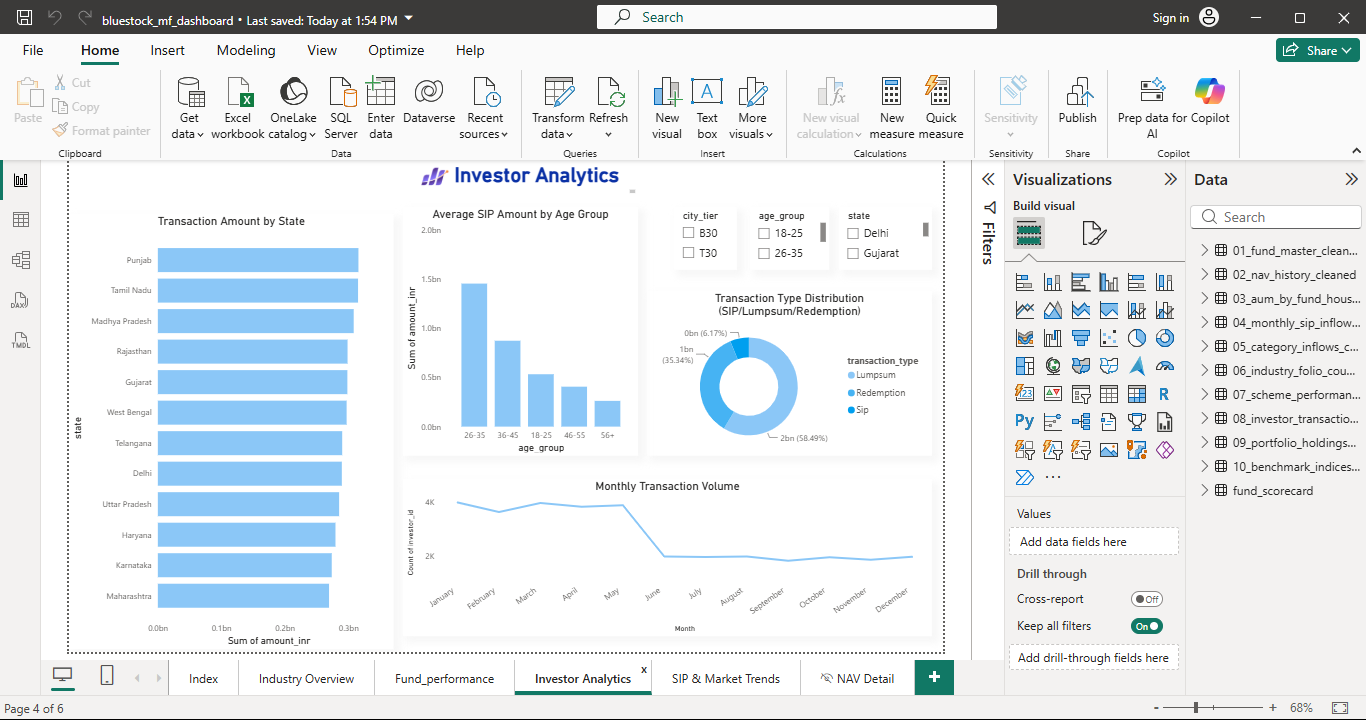

What the dashboard file says about the page in this screenshot:
{"tool":"powerbi","page":{"name":"Investor Analytics","canvas":[1280,720],"ordinal":3},"visuals":[{"type":"barChart","title":"Transaction Amount by State","fields":{"Category":["08_investor_transactions_cleaned.state"],"Y":["Sum(08_investor_transactions_cleaned.amount_inr)"]},"box":[0,79,475.4,636.6],"z":0},{"type":"donutChart","title":"Transaction Type Distribution (SIP/Lumpsum/Redemption)","fields":{"Y":["Sum(08_investor_transactions_cleaned.amount_inr)"],"Category":["08_investor_transactions_cleaned.transaction_type"]},"box":[845.9,191.7,417.1,241.5],"z":1000},{"type":"columnChart","title":"Average SIP Amount by Age Group","fields":{"Category":["08_investor_transactions_cleaned.age_group"],"Y":["Sum(08_investor_transactions_cleaned.amount_inr)"]},"box":[488.8,68.8,343.9,364.4],"z":2000},{"type":"lineChart","title":"Monthly Transaction Volume","fields":{"Category":["08_investor_transactions_cleaned.transaction_date.Variation.Date Hierarchy.Month"],"Y":["CountNonNull(08_investor_transactions_cleaned.investor_id)"]},"box":[488.8,466.8,774.1,229.8],"z":3000},{"type":"slicer","fields":{"Values":["08_investor_transactions_cleaned.age_group"]},"box":[996.6,68.8,115.6,92.2],"z":4000},{"type":"slicer","fields":{"Values":["08_investor_transactions_cleaned.city_tier"]},"box":[885.2,68.9,92.4,92.4],"z":5000},{"type":"slicer","fields":{"Values":["08_investor_transactions_cleaned.state"]},"box":[1126.8,68.8,136.1,92.2],"z":6000},{"type":"textbox","title":"Investor Analytics","box":[535,4,298,49],"z":7000},{"type":"image","box":[397,0,275,48],"z":8000}]}

Visuals, with their boxes on the page's 1280x720 design canvas (x1, y1, x2, y2). These are canvas units, not pixel positions in the 1366x720 screenshot, which may show the page scaled, cropped or inside an application window:
"Transaction Amount by State" barChart: left=0, top=79, right=475, bottom=716
"Transaction Type Distribution (SIP/Lumpsum/Redemption)" donutChart: left=846, top=192, right=1263, bottom=433
"Average SIP Amount by Age Group" columnChart: left=489, top=69, right=833, bottom=433
"Monthly Transaction Volume" lineChart: left=489, top=467, right=1263, bottom=697
slicer - 08_investor_transactions_cleaned.age_group: left=997, top=69, right=1112, bottom=161
slicer - 08_investor_transactions_cleaned.city_tier: left=885, top=69, right=978, bottom=161
slicer - 08_investor_transactions_cleaned.state: left=1127, top=69, right=1263, bottom=161
"Investor Analytics" textbox: left=535, top=4, right=833, bottom=53
image: left=397, top=0, right=672, bottom=48
